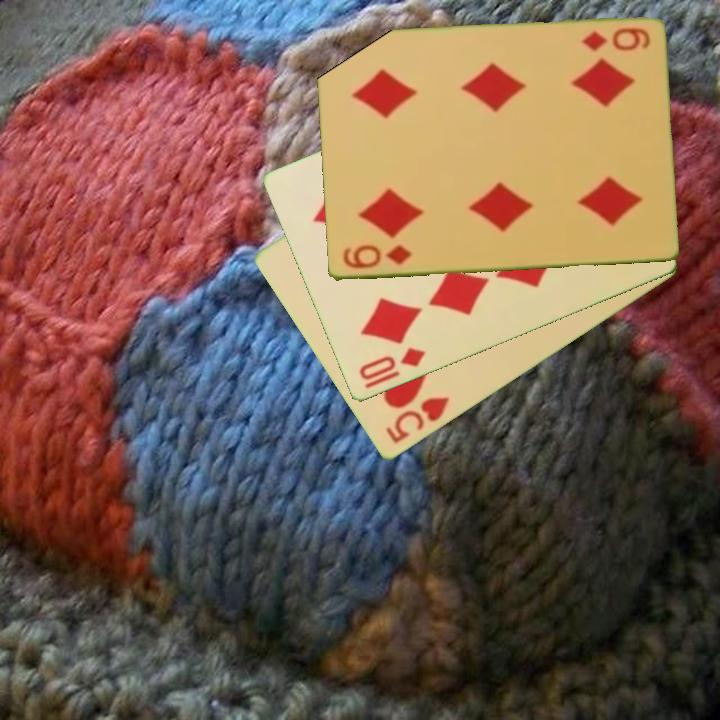10d: (355, 344, 429, 384)
5h: (381, 393, 453, 447)
6d: (339, 241, 414, 272), (578, 24, 653, 54)
